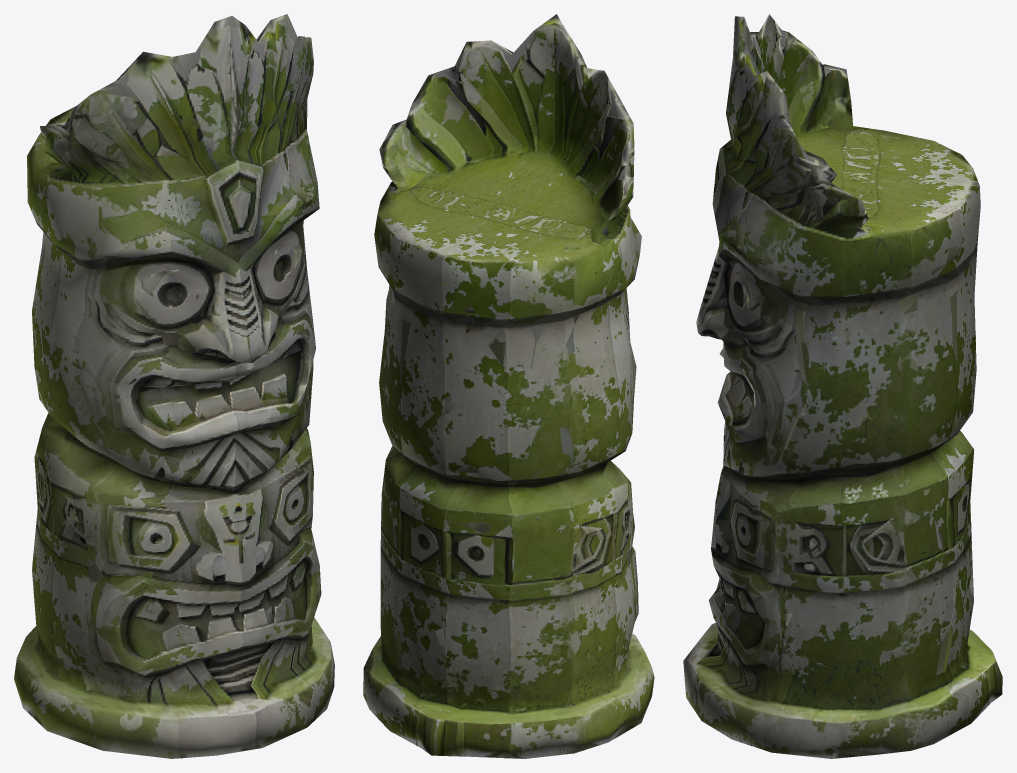
File: JungleTiki.fbx
The picture shows the model from 3 angles, left to right: view 1: azimuth 30°, elevation 25°; view 2: azimuth 150°, elevation 25°; view 3: azimuth 270°, elevation 25°; orthographic projection. The views are drawn at different scales.
Parts seen in each view (by area): view 1: input; view 2: input; view 3: input.
Part boxes in pixels (x1,y1,x2,y2): input: (14, 14, 334, 758); input: (363, 14, 654, 758); input: (683, 14, 1002, 758).
Size of the model in its own units: 41.53 by 101 by 43.12.
Materials: 1 (1 with a texture image).
